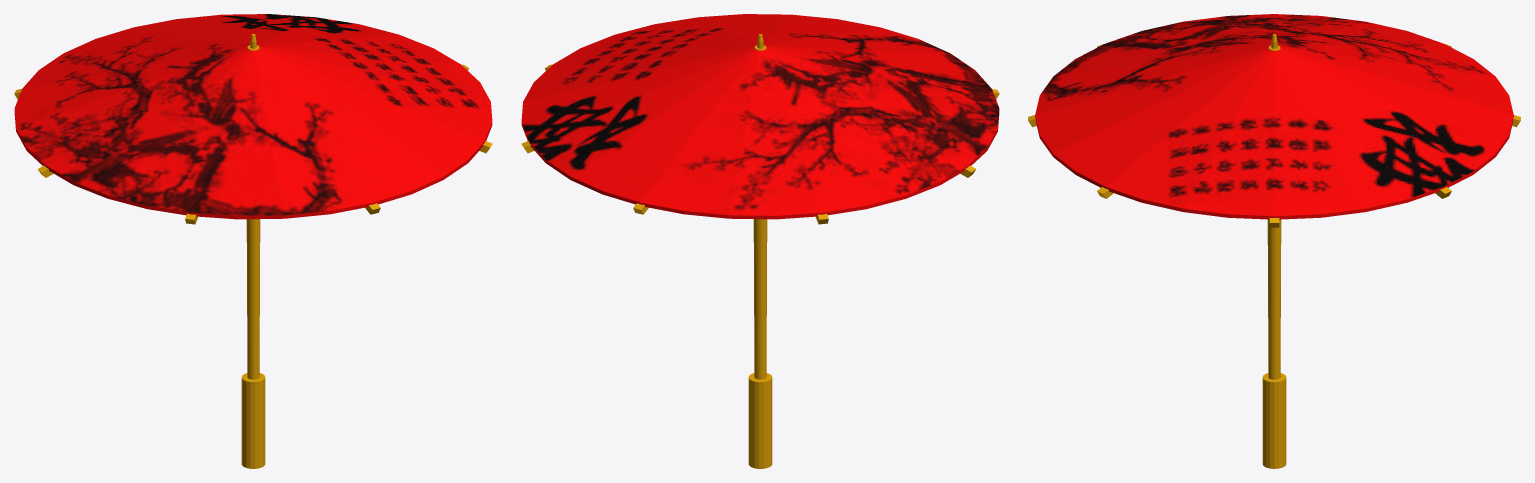
The picture shows the model from 3 angles, left to right: view 1: azimuth 30°, elevation 25°; view 2: azimuth 150°, elevation 25°; view 3: azimuth 270°, elevation 25°; orthographic projection.
Parts seen in each view (by area): view 1: 柱体, 柱体.001; view 2: 柱体, 柱体.001; view 3: 柱体, 柱体.001.
Boxes of the visible parts, x1=… form: 柱体: x1=14, y1=14, x2=492, y2=219; 柱体.001: x1=14, y1=34, x2=492, y2=468; 柱体: x1=521, y1=14, x2=999, y2=219; 柱体.001: x1=521, y1=34, x2=999, y2=468; 柱体: x1=1035, y1=14, x2=1513, y2=219; 柱体.001: x1=1028, y1=34, x2=1520, y2=468.
Size of the model in its own units: 2.06 by 1.98 by 2.06.
Materials: 2 (1 with a texture image).
